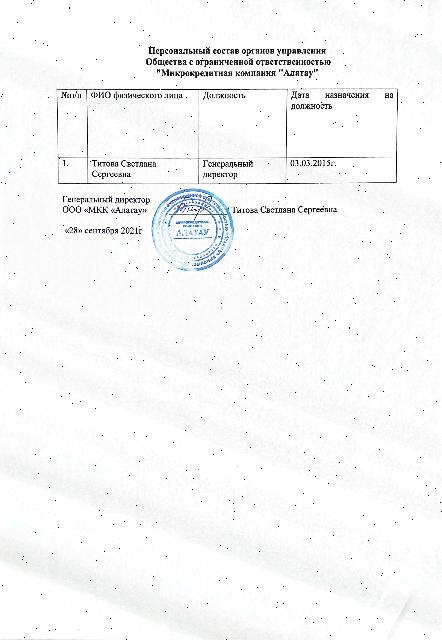stamp: (150, 188, 234, 274)
